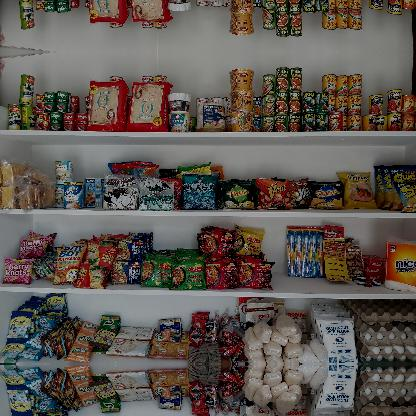Lady-s-Choice: (194, 102, 226, 132)
